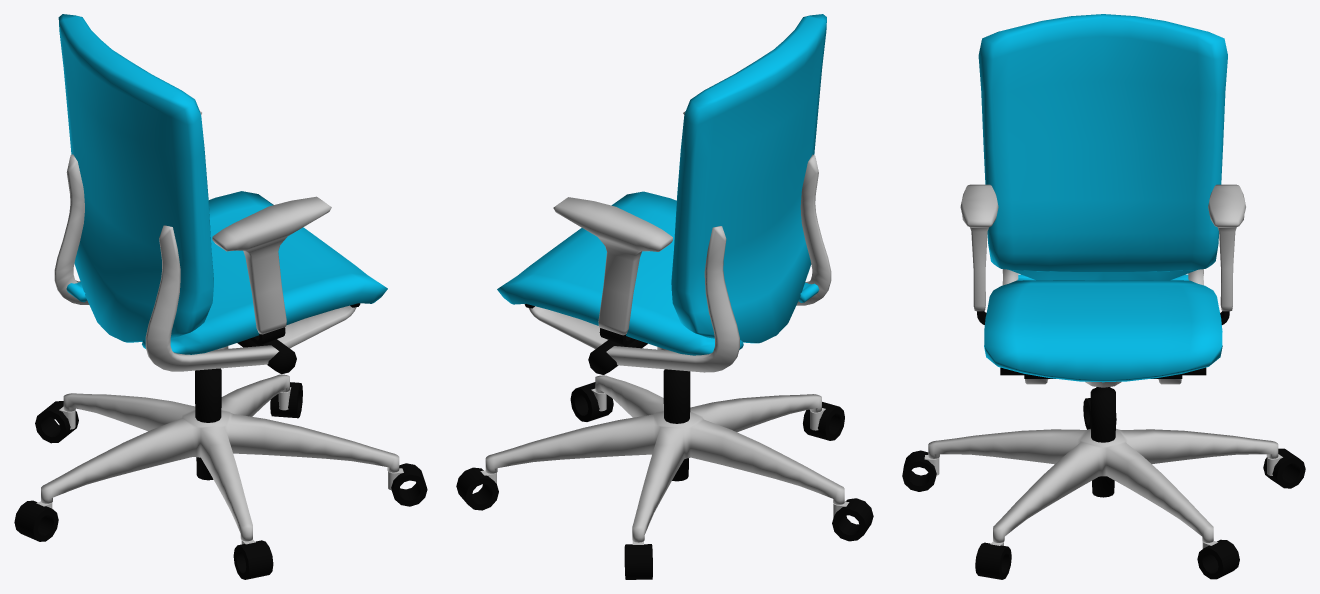
File: Office_Chair.fbx
The picture shows the model from 3 angles, left to right: view 1: azimuth 30°, elevation 25°; view 2: azimuth 150°, elevation 25°; view 3: azimuth 270°, elevation 25°; orthographic projection. The views are drawn at different scales.
Visible parts, largest first — view 1: Office_Chair_Final_PBR; view 2: Office_Chair_Final_PBR; view 3: Office_Chair_Final_PBR.
Part boxes in pixels (bbox=[...]): Office_Chair_Final_PBR: bbox=[14, 14, 427, 579]; Office_Chair_Final_PBR: bbox=[456, 14, 873, 579]; Office_Chair_Final_PBR: bbox=[902, 14, 1305, 579].
Bounding box in the file's own units: 0.8629 × 1.1 × 0.8955.
